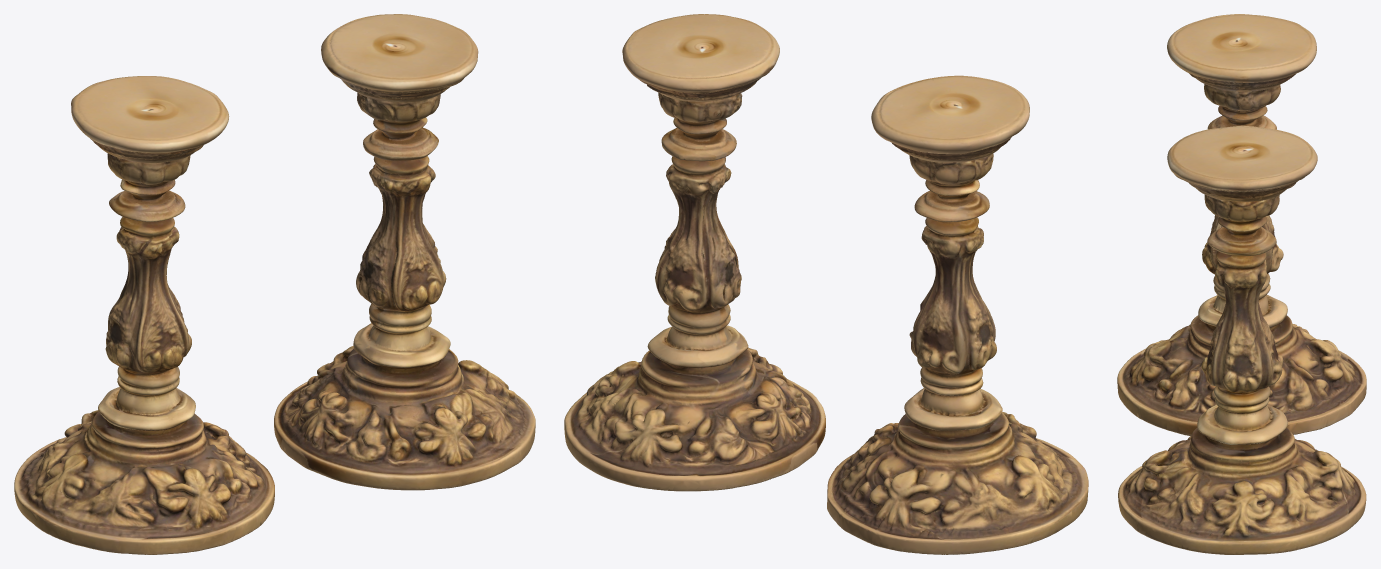
File: Meshy_AI_Short_European_stlyed_0330052105_texture.glb
The picture shows the model from 3 angles, left to right: view 1: azimuth 30°, elevation 25°; view 2: azimuth 150°, elevation 25°; view 3: azimuth 270°, elevation 25°; orthographic projection. The views are drawn at different scales.
Bounding box in the file's own units: 2 × 1.54 × 0.9889.
1 material, 1 textured.
